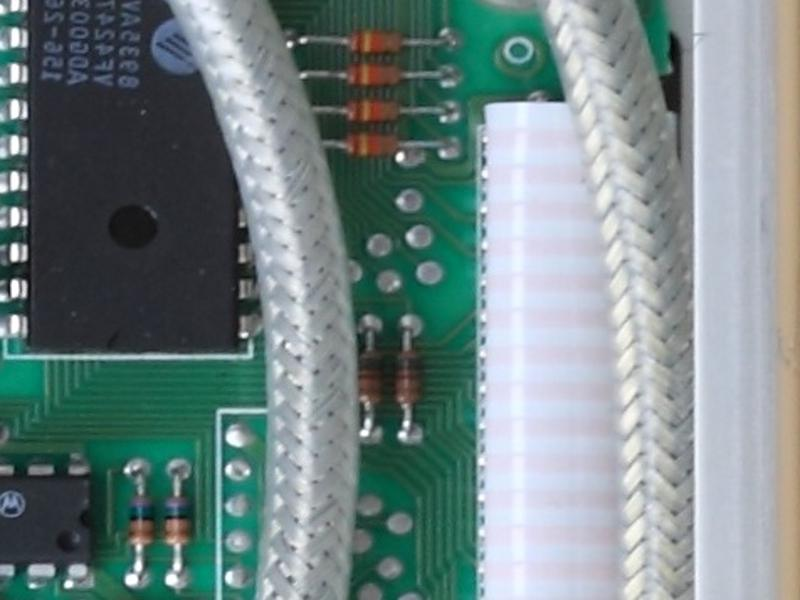Resistor: (389, 343, 424, 420), (123, 481, 158, 558), (159, 489, 197, 558), (337, 24, 419, 55), (332, 128, 409, 161), (351, 342, 387, 411), (331, 58, 415, 86), (337, 94, 414, 124)
